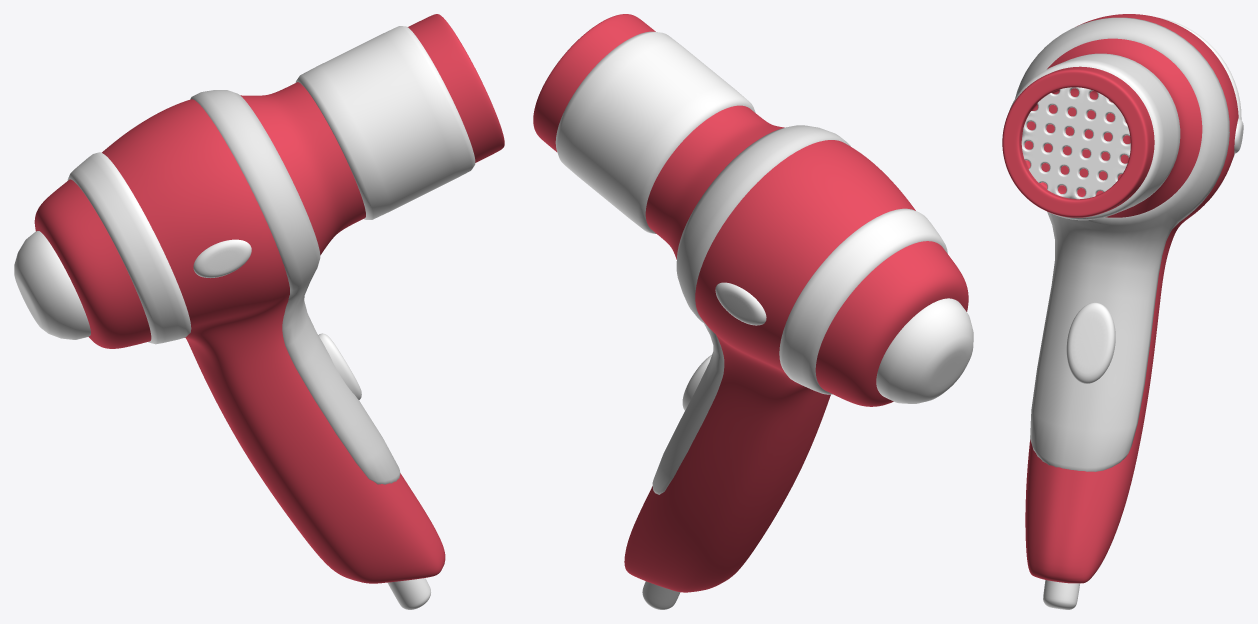
File: hairdyer-3d-animated-icon-680508113071.glb
3 renders of one model, left to right at view 1: azimuth 30°, elevation 25°; view 2: azimuth 150°, elevation 25°; view 3: azimuth 270°, elevation 25°, orthographic. The views are drawn at different scales.
Parts seen in each view (by area): view 1: Cylinder.064, Cylinder.065, Cylinder.071, Cylinder.070; view 2: Cylinder.064, Cylinder.065, Cylinder.071; view 3: Cylinder.065, Cylinder.064, Plane.018, Cylinder.070, Cylinder.071.
Boxes of the visible parts, x1=… form: Cylinder.064: x1=34, y1=14, x2=504, y2=583; Cylinder.065: x1=14, y1=26, x2=475, y2=484; Cylinder.071: x1=388, y1=578, x2=430, y2=609; Cylinder.070: x1=318, y1=333, x2=361, y2=399; Cylinder.064: x1=533, y1=14, x2=968, y2=592; Cylinder.065: x1=555, y1=31, x2=973, y2=494; Cylinder.071: x1=642, y1=581, x2=680, y2=609; Cylinder.065: x1=1010, y1=17, x2=1243, y2=471; Cylinder.064: x1=1002, y1=14, x2=1238, y2=583; Plane.018: x1=1021, y1=87, x2=1130, y2=199; Cylinder.070: x1=1066, y1=302, x2=1115, y2=383; Cylinder.071: x1=1043, y1=580, x2=1080, y2=609.
Size of the model in its own units: 3.96 by 4.99 by 1.95.
